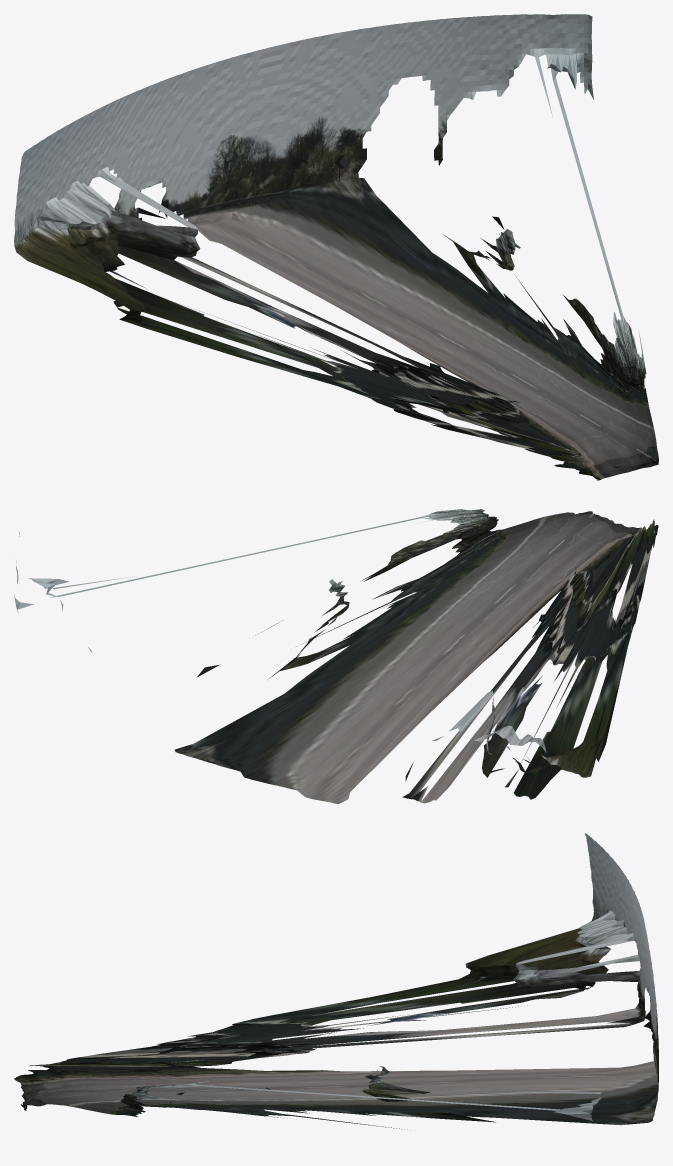
3 renders of one model, top to bottom at view 1: azimuth 30°, elevation 25°; view 2: azimuth 150°, elevation 25°; view 3: azimuth 270°, elevation 25°, orthographic. The views are drawn at different scales.
Parts seen in each view (by area): view 1: defaultobject; view 2: defaultobject; view 3: defaultobject.
Part boxes in pixels (x1=…): defaultobject: x1=14, y1=14, x2=658, y2=480; defaultobject: x1=14, y1=509, x2=658, y2=803; defaultobject: x1=14, y1=833, x2=658, y2=1129.
Size of the model in its own units: 40.91 by 11.64 by 44.9.
1 material, 1 textured.
